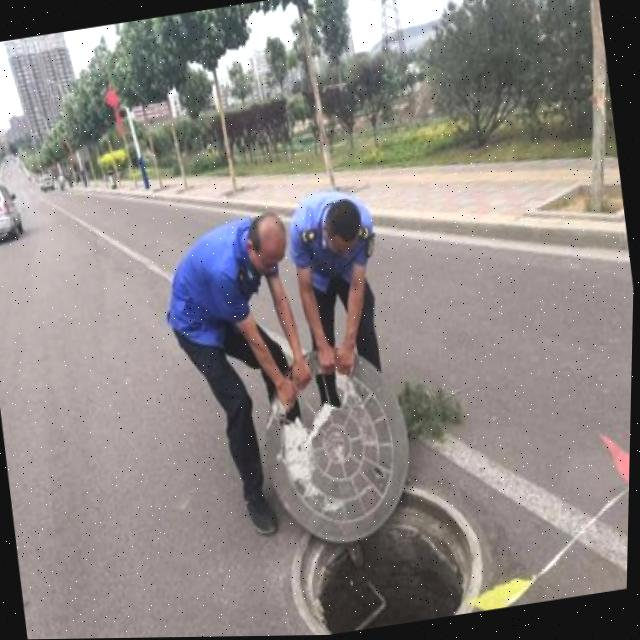manhole: (263, 461, 494, 637)
